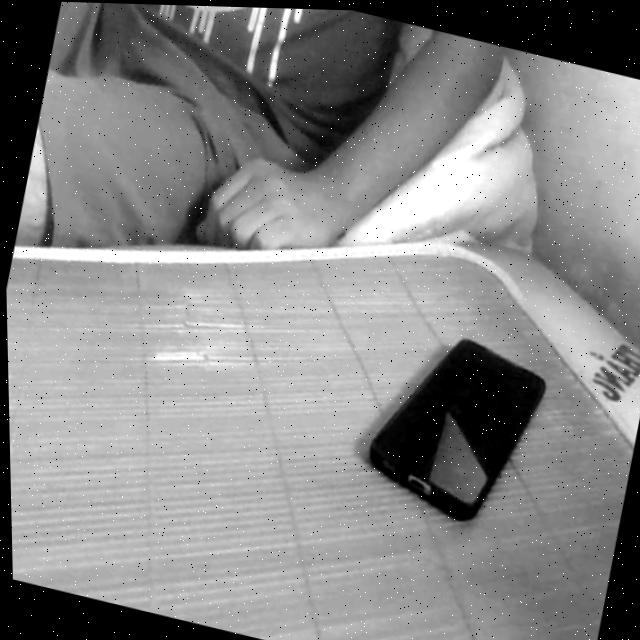phone: (335, 289, 571, 562)
